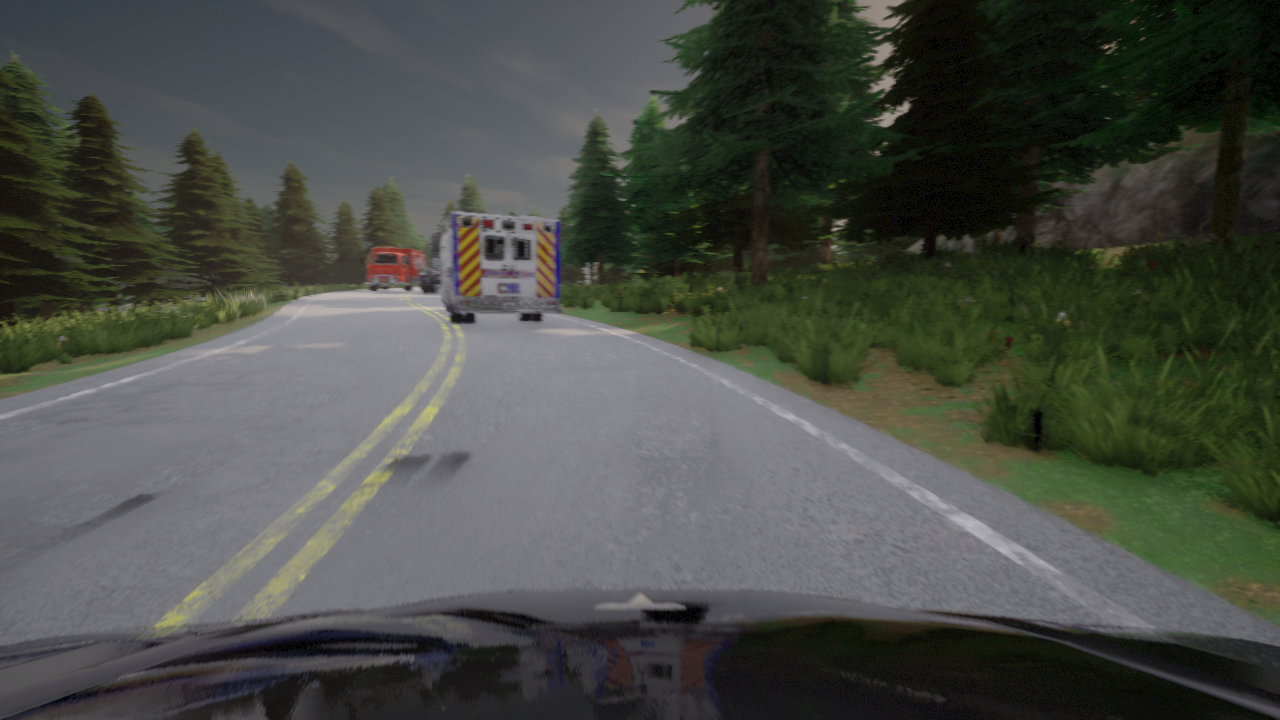cyclist: (0, 588, 1279, 719), (432, 210, 560, 322), (360, 247, 426, 291), (418, 235, 441, 292)
